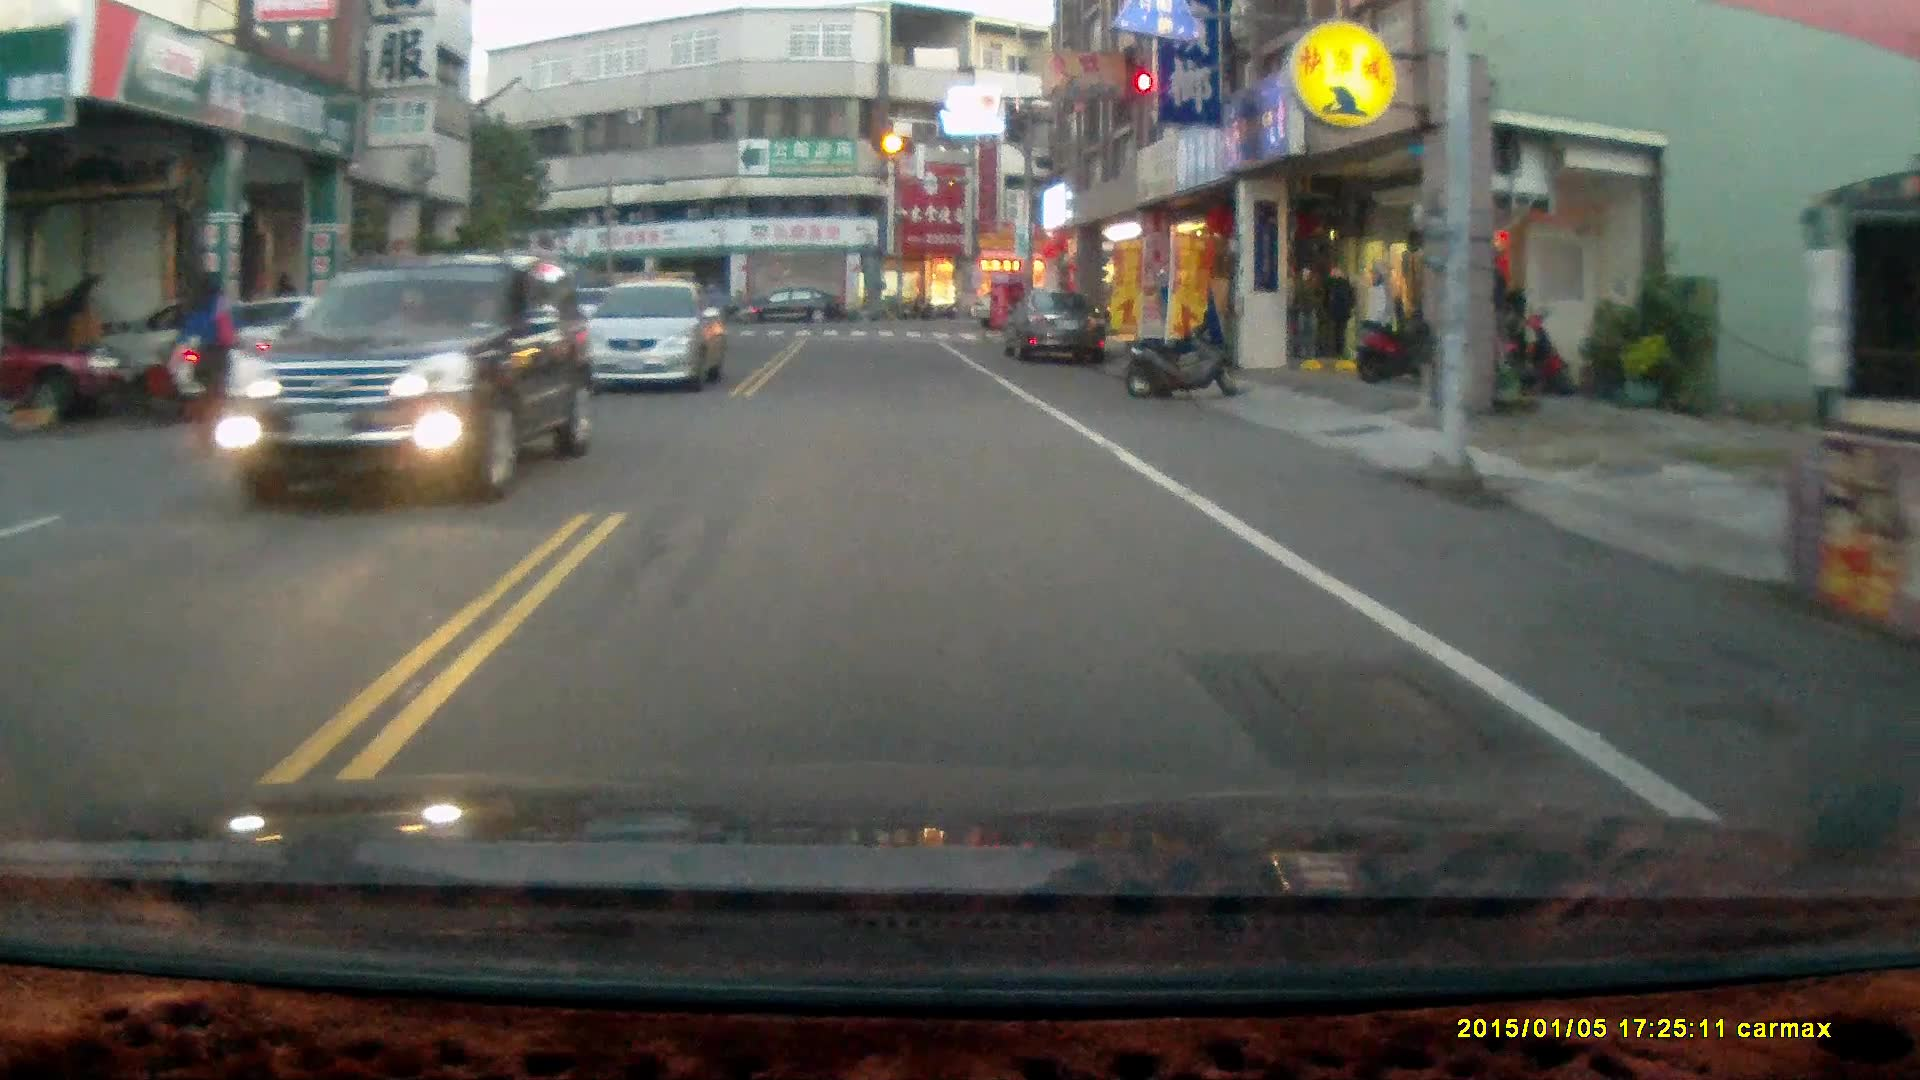pedestrian: (183, 268, 230, 442)
vehicle: (224, 251, 592, 504), (587, 277, 721, 393), (1001, 286, 1110, 369), (734, 288, 848, 333)
